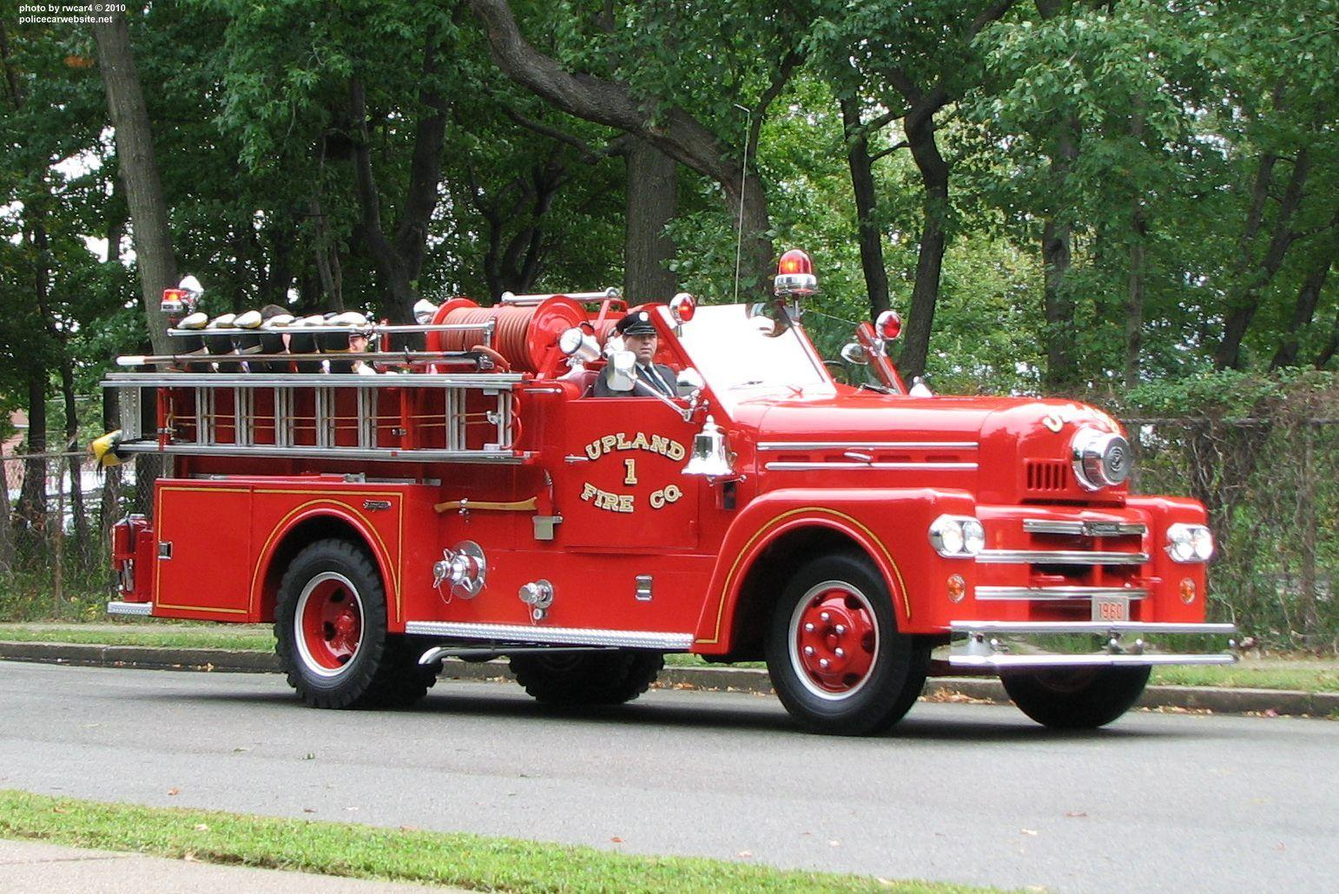Fire-engine: (89, 247, 1240, 735)
